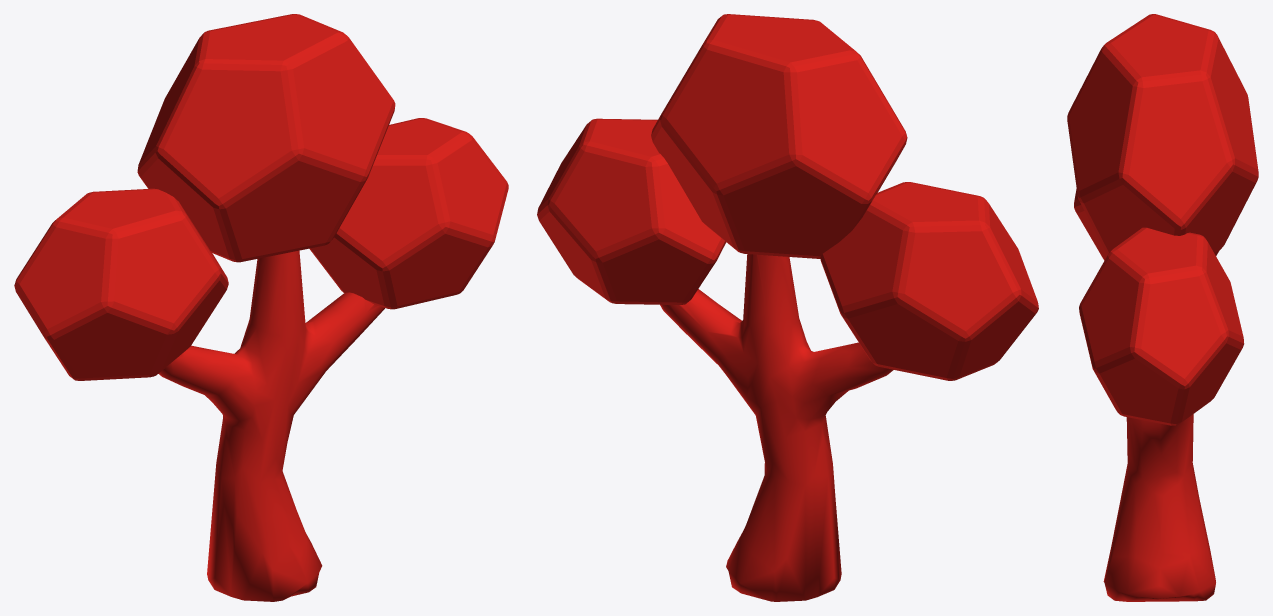
File: gummy_forked.glb
3 renders of one model, left to right at view 1: azimuth 30°, elevation 25°; view 2: azimuth 150°, elevation 25°; view 3: azimuth 270°, elevation 25°, orthographic.
Visible parts, largest first — view 1: Gummy_Forked_Ruby; view 2: Gummy_Forked_Ruby; view 3: Gummy_Forked_Ruby.
Part boxes in pixels (x1,y1,x2,y2): Gummy_Forked_Ruby: [14, 14, 508, 601]; Gummy_Forked_Ruby: [537, 14, 1038, 601]; Gummy_Forked_Ruby: [1067, 14, 1258, 601].
Size of the model in its own units: 4.01 by 4.32 by 1.39.
